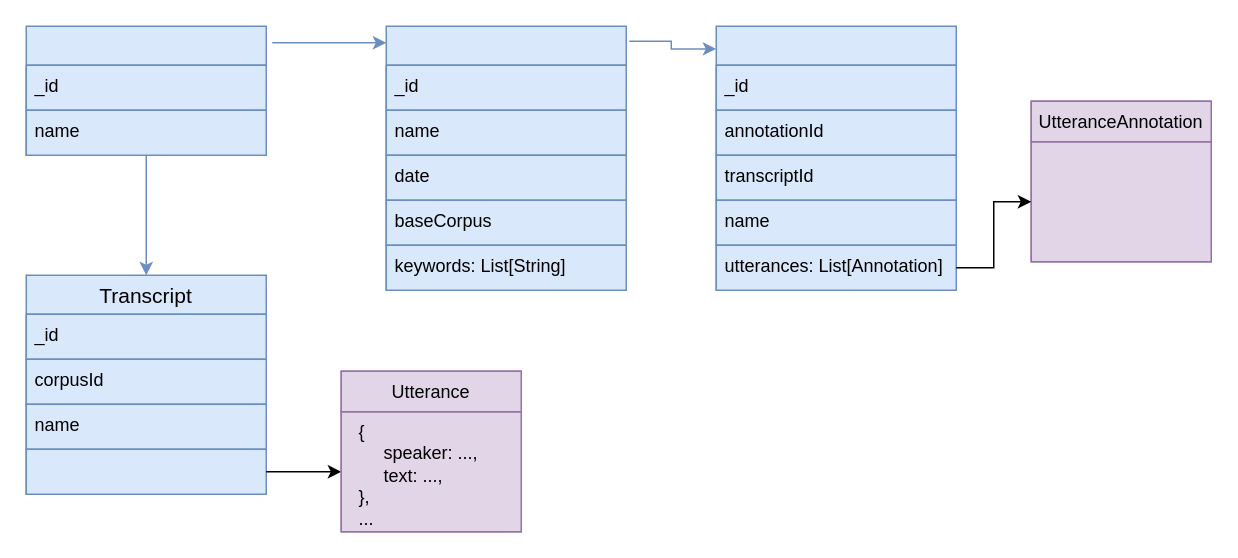
The diagram is 1238 pixels wide and 558 high, and some of its shapes have lost their labels. The shapes that lost their labels are listed below. From the top down, each one's box as (x1, y1, x2, y2) in pixels, then its label:
(25, 25, 266, 155): Corpus
(385, 25, 626, 290): Annotation
(715, 25, 956, 290): TranscriptAnnotation
(1030, 140, 1211, 262): { keyword: ..., isActionItem: ..., }, ...
(25, 448, 266, 494): transcript: List[Utterance]
